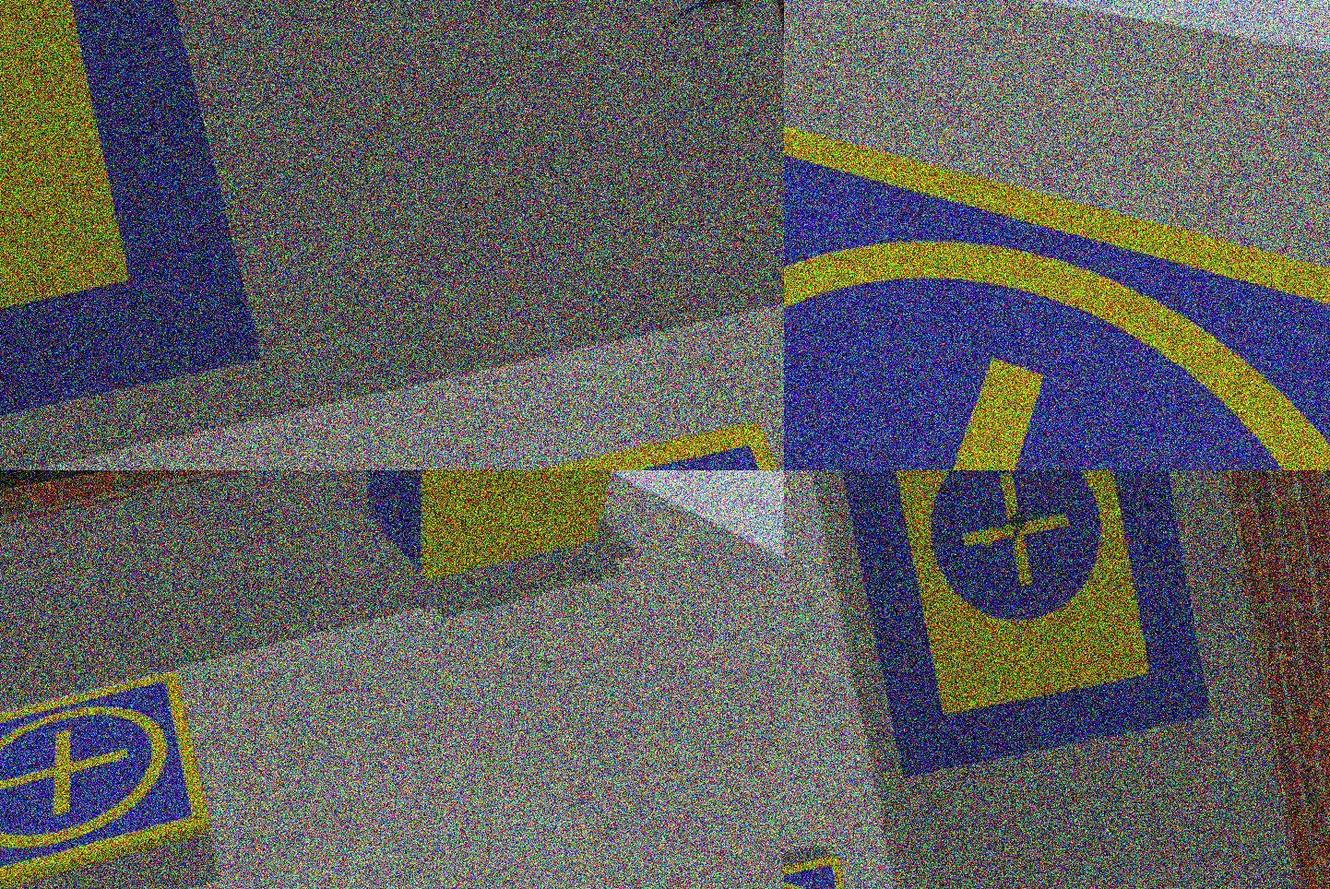large_base: (1, 1, 268, 471), (813, 471, 1211, 779)
small_base: (784, 1, 1330, 471), (1, 672, 221, 889)
